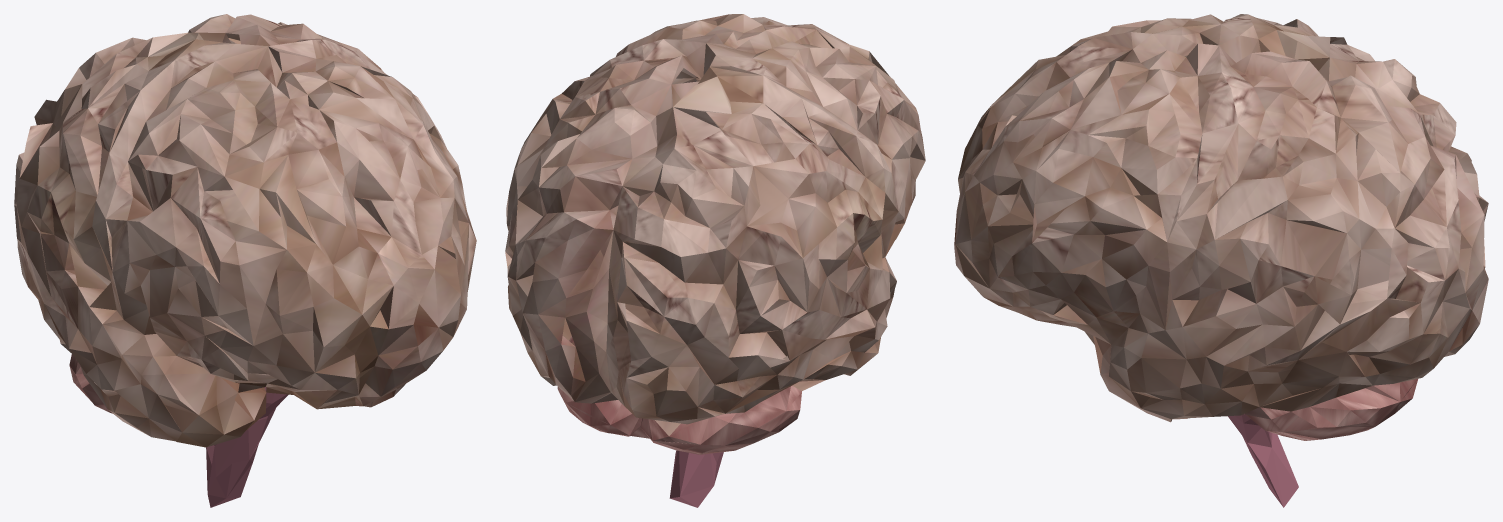
The model's file is Brain.glb.
3 views of the same model, side by side, from view 1: azimuth 30°, elevation 25°; view 2: azimuth 150°, elevation 25°; view 3: azimuth 270°, elevation 25° (orthographic). The views are drawn at different scales.
Visible parts, largest first — view 1: Brain_Stem.001; view 2: Brain_Stem.001; view 3: Brain_Stem.001.
Boxes of the visible parts, left/top/right/bottom form: Brain_Stem.001: left=14, top=14, right=476, bottom=507; Brain_Stem.001: left=505, top=14, right=925, bottom=507; Brain_Stem.001: left=954, top=14, right=1488, bottom=507.
Size of the model in its own units: 0.1264 by 0.1619 by 0.1688.
2 materials, 1 textured.
